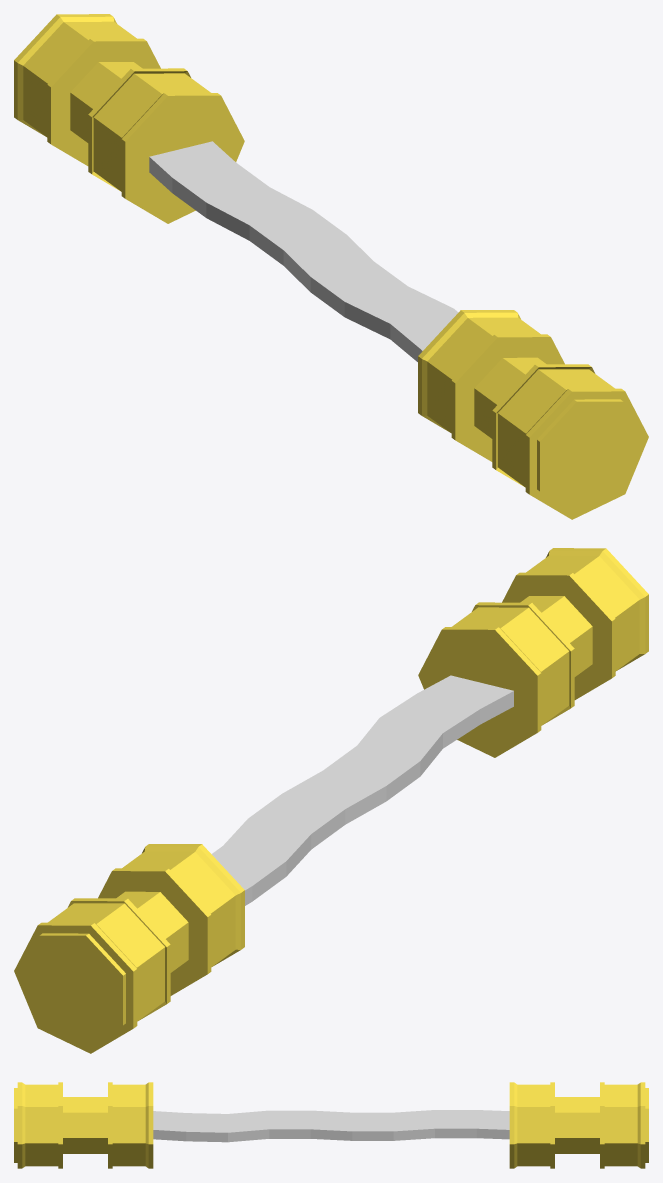
Rendered from bat.glb.
The picture shows the model from 3 angles, top to bottom: view 1: azimuth 30°, elevation 25°; view 2: azimuth 150°, elevation 25°; view 3: azimuth 270°, elevation 25°; orthographic projection. The views are drawn at different scales.
Visible parts, largest first — view 1: Cylinder.001; view 2: Cylinder.001; view 3: Cylinder.001.
Part boxes in pixels (x1,y1,x2,y2): Cylinder.001: [14, 14, 648, 519]; Cylinder.001: [14, 548, 648, 1053]; Cylinder.001: [14, 1082, 648, 1168].
Size of the model in its own units: 0.2819 by 0.2892 by 2.13.
